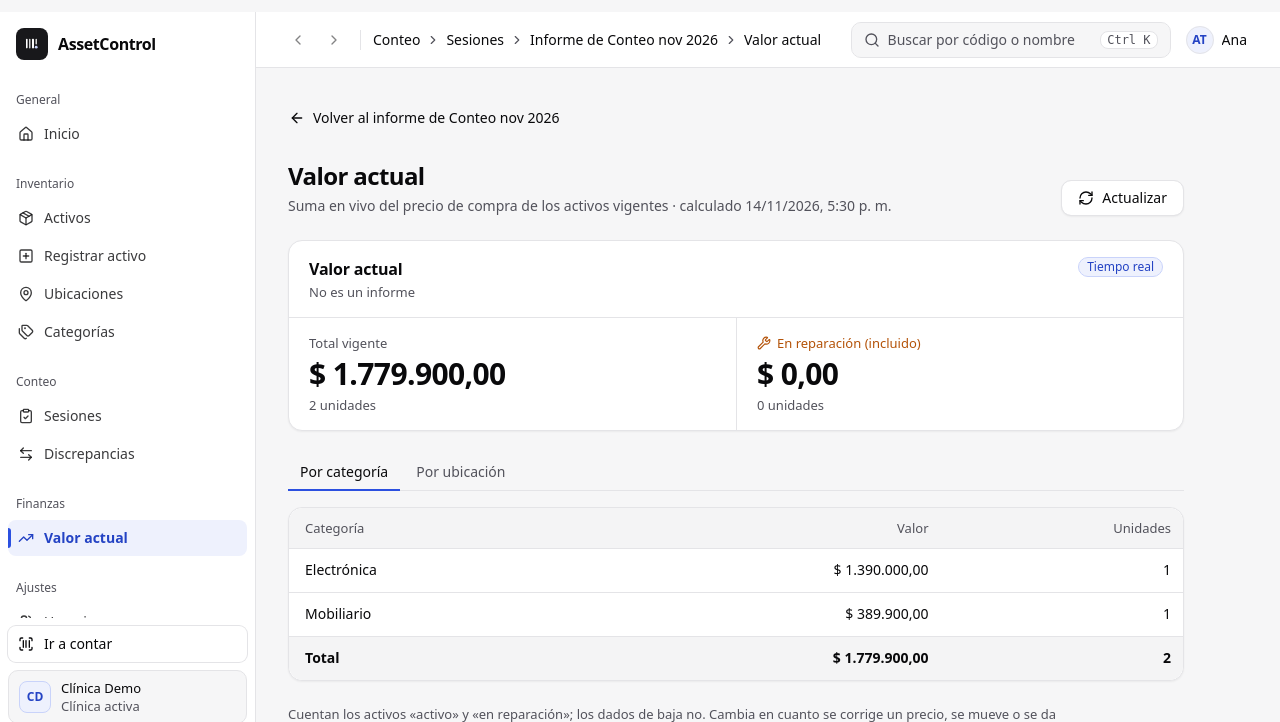
it: Volver al informe desde Valor actual (spec 015, T3) › con ?sesion= de una sesión cerrada enlaza al informe y lo muestra en las migas
The width and height of the screenshot is (1280, 722).
Expected: the navigation bar named "Migas de pan" reads "Conteo Sesiones Informe de Conteo nov 2026 Valor actual", [373,30,821,50]
Click the link "Volver al informe de Conteo nov 2026".
click(424, 118)  # box [289,108,560,127]
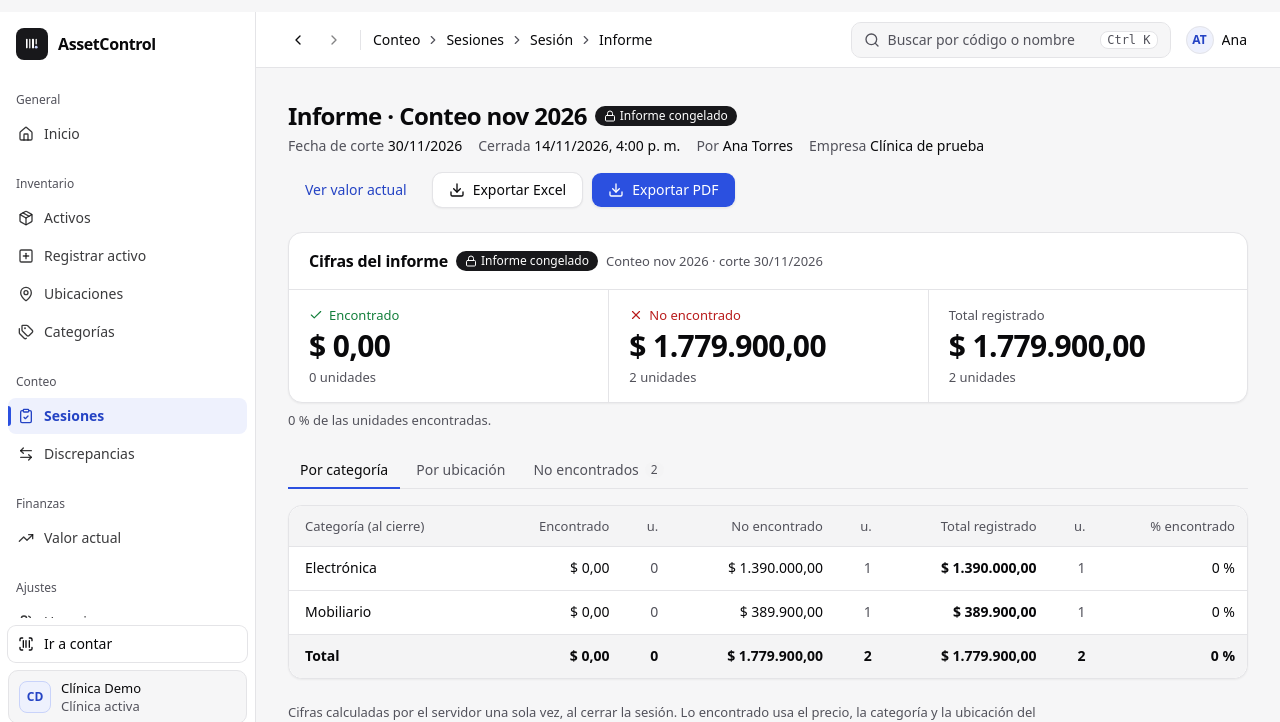
Expected: the heading "Informe · Conteo nov 2026" is shown, [288,100,587,132]
